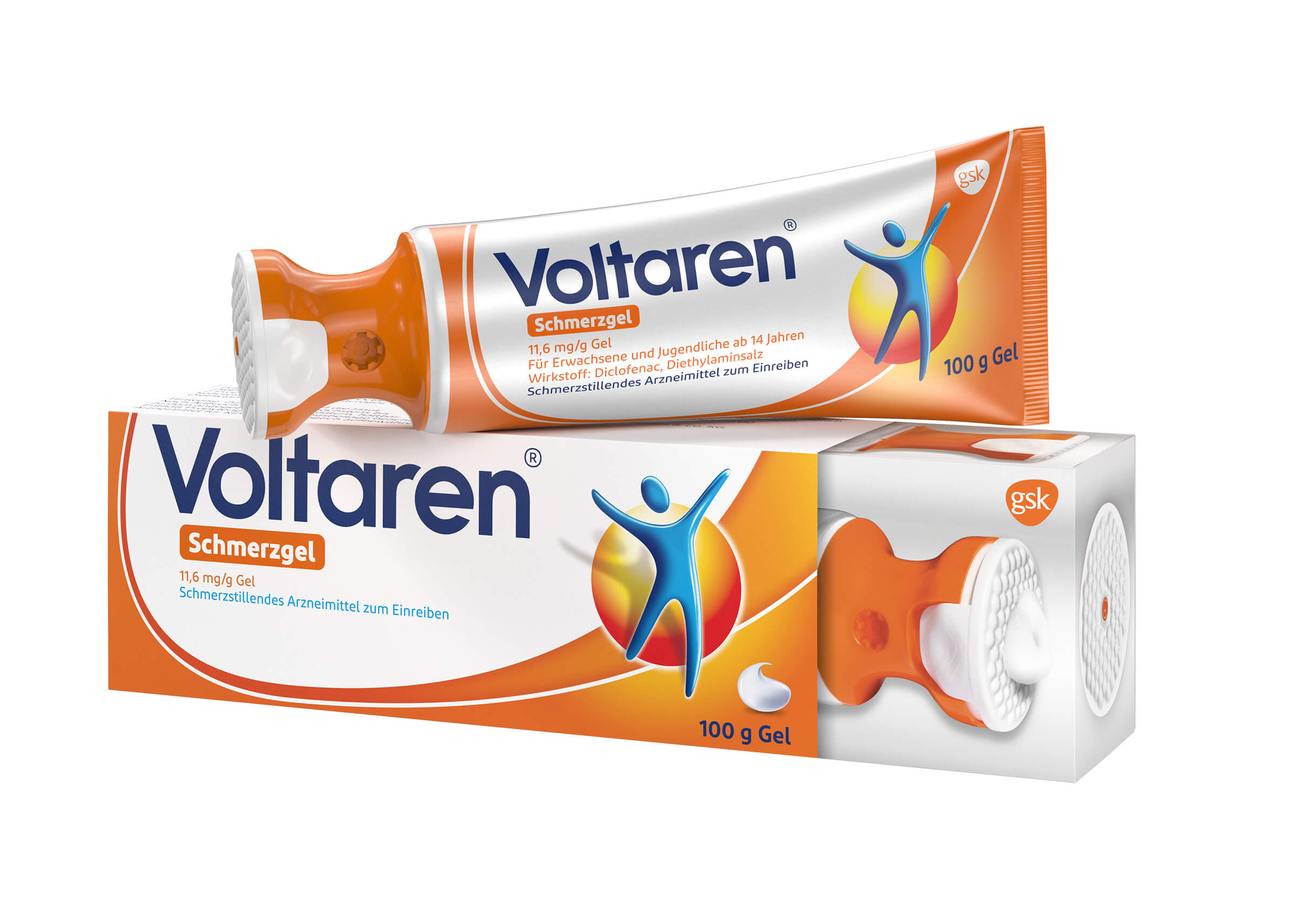Medicine: (89, 399, 1171, 801), (224, 124, 1106, 445)
